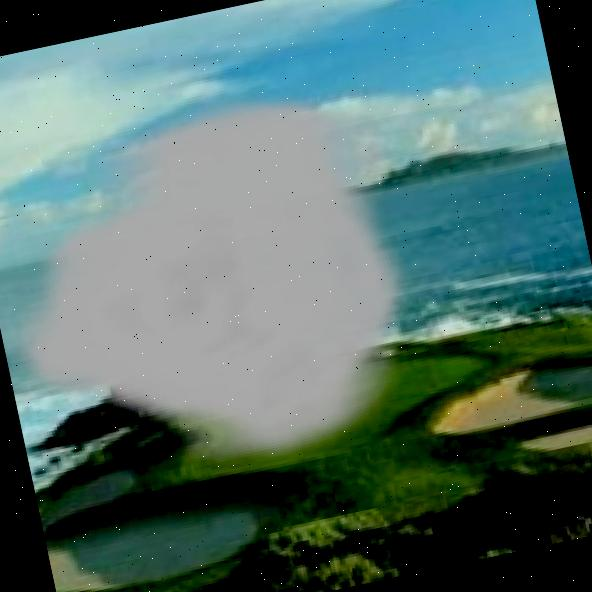smoke: (0, 66, 444, 520)
